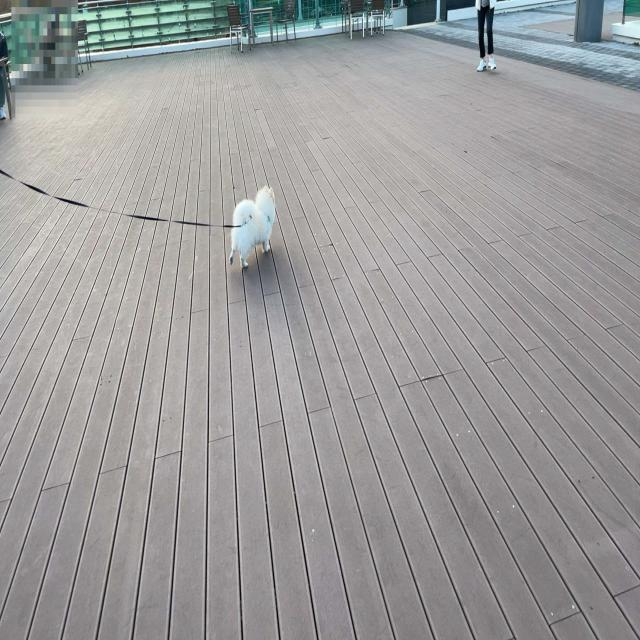Dog: (228, 183, 276, 270)
